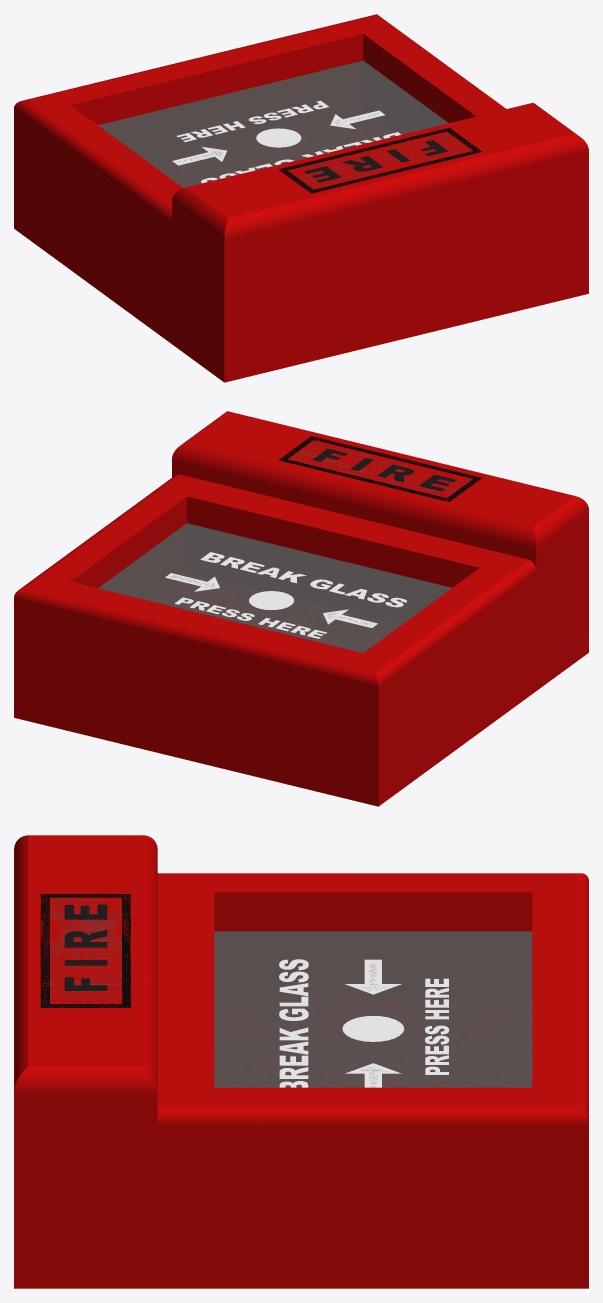
Rendered from FireAlarm.dae.
The picture shows the model from 3 angles, top to bottom: view 1: azimuth 30°, elevation 25°; view 2: azimuth 150°, elevation 25°; view 3: azimuth 270°, elevation 25°; orthographic projection. The views are drawn at different scales.
Visible parts, largest first — view 1: group_0 (×4), group_2 (×2); view 2: group_0 (×4), group_2 (×2); view 3: group_0 (×4), group_2 (×2), F_I_R_E.
Part boxes in pixels (box(x1,y1,x2,y2)): group_0 (×4): box(14, 14, 588, 382); group_2 (×2): box(98, 60, 448, 187); group_0 (×4): box(14, 411, 588, 806); group_2 (×2): box(98, 523, 451, 652); group_0 (×4): box(14, 835, 588, 1288); group_2 (×2): box(214, 931, 532, 1087); F_I_R_E: box(64, 930, 107, 947).
Size of the model in its own units: 4.89 by 4.89 by 2.03.
